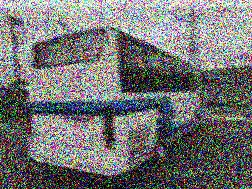bus: (27, 26, 207, 182)
